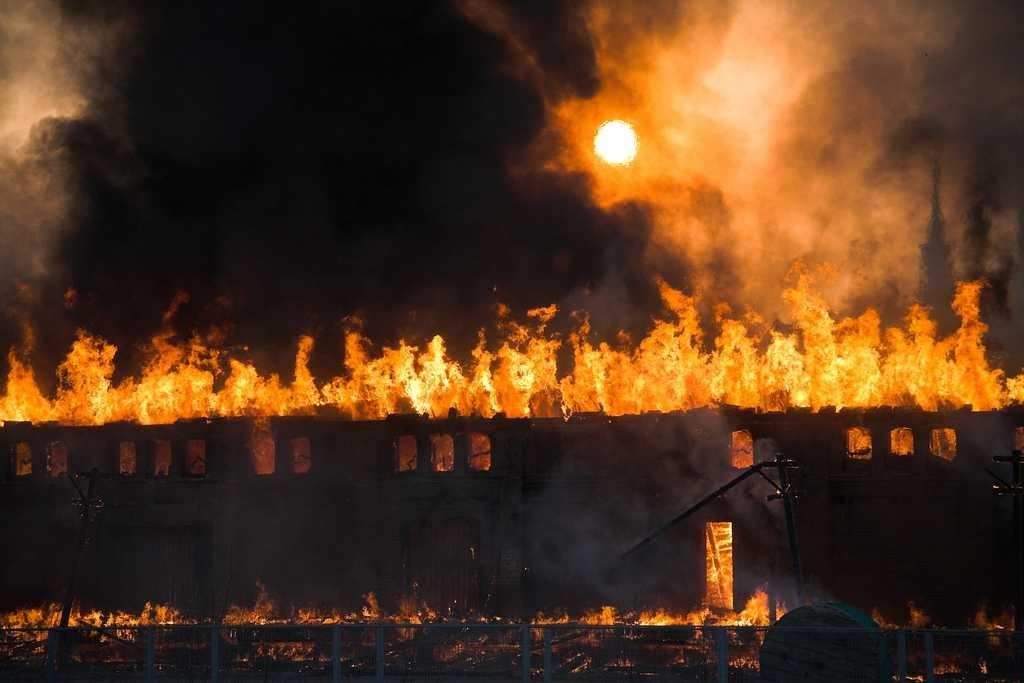fire: (580, 342, 1012, 408), (350, 343, 567, 407), (70, 353, 252, 408), (665, 593, 772, 627)
smoke: (673, 52, 922, 257), (13, 25, 83, 260)
